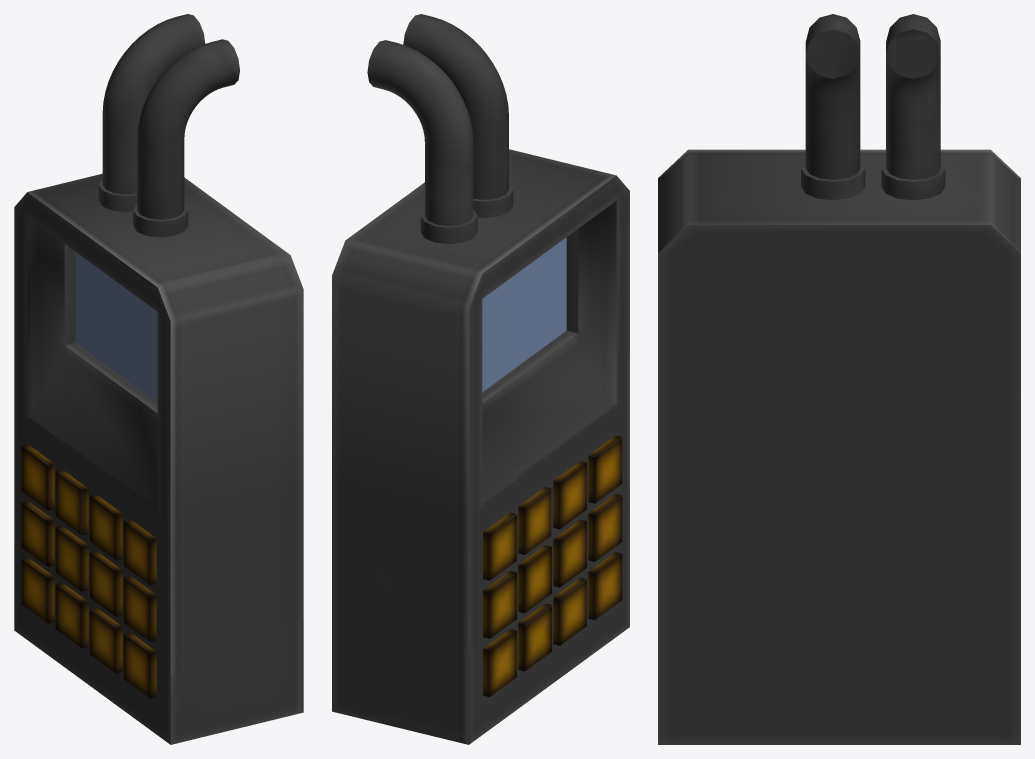
Rendered from SM_Terminal01.fbx.
The picture shows the model from 3 angles, left to right: view 1: azimuth 30°, elevation 25°; view 2: azimuth 150°, elevation 25°; view 3: azimuth 270°, elevation 25°; orthographic projection. The views are drawn at different scales.
Visible parts, largest first — view 1: SM_Terminal01; view 2: SM_Terminal01; view 3: SM_Terminal01.
Part boxes in pixels (left/top/right/bottom): SM_Terminal01: left=14, top=14, right=303, bottom=744; SM_Terminal01: left=332, top=14, right=629, bottom=744; SM_Terminal01: left=658, top=14, right=1020, bottom=744.
Size of the model in its own units: 6.71 by 13.02 by 28.33.
